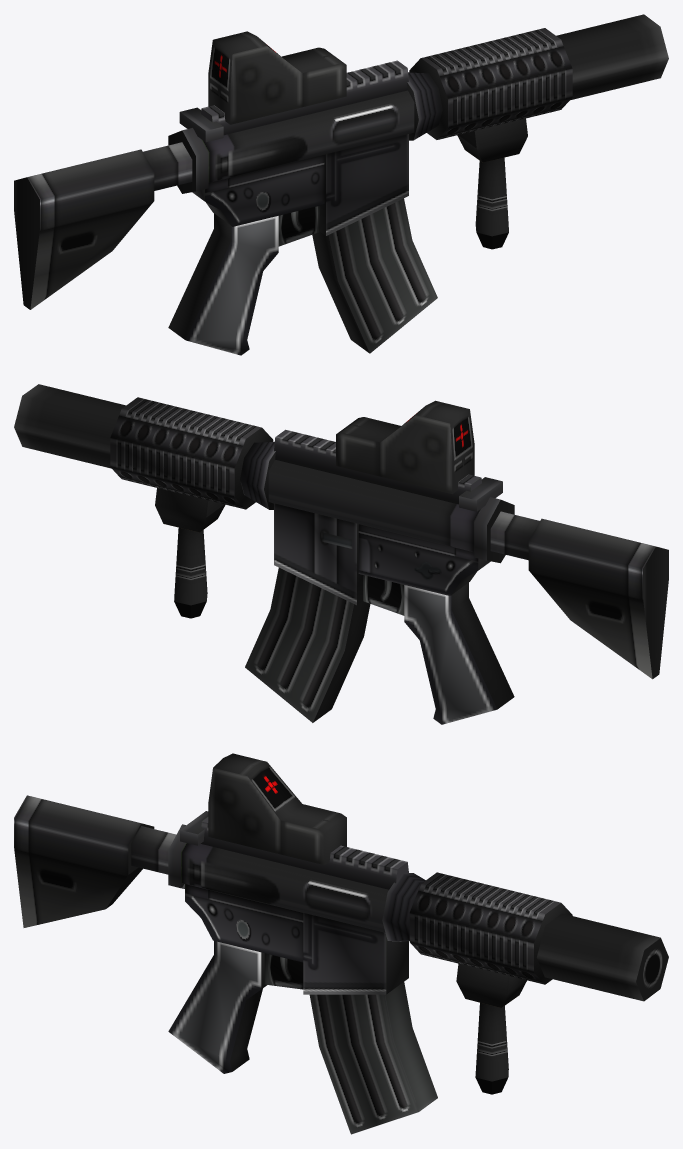
File: rifle m4a1 lv3.FBX
3 renders of one model, top to bottom at view 1: azimuth 30°, elevation 25°; view 2: azimuth 150°, elevation 25°; view 3: azimuth 330°, elevation 25°, orthographic.
Parts seen in each view (by area): view 1: Object045; view 2: Object045; view 3: Object045.
Part boxes in pixels (left/top/right/bottom): Object045: left=14, top=14, right=668, bottom=355; Object045: left=14, top=384, right=668, bottom=724; Object045: left=14, top=753, right=668, bottom=1134.
Size of the model in its own units: 76.13 by 39.05 by 8.18.
